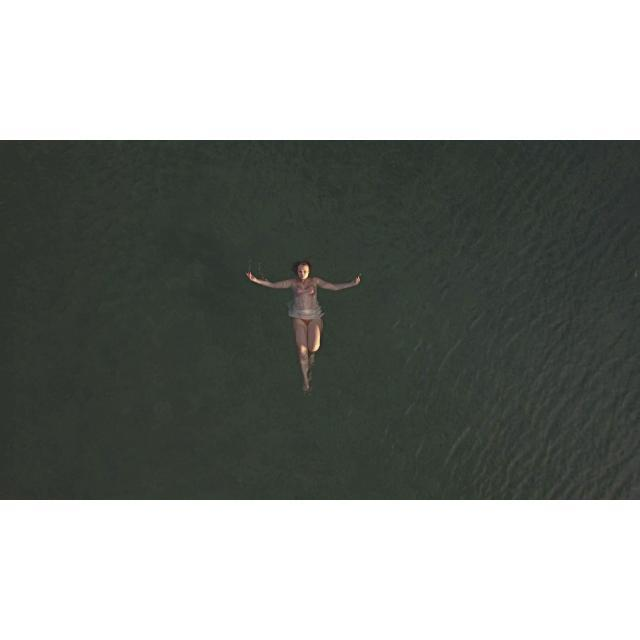human: (246, 258, 362, 395)
